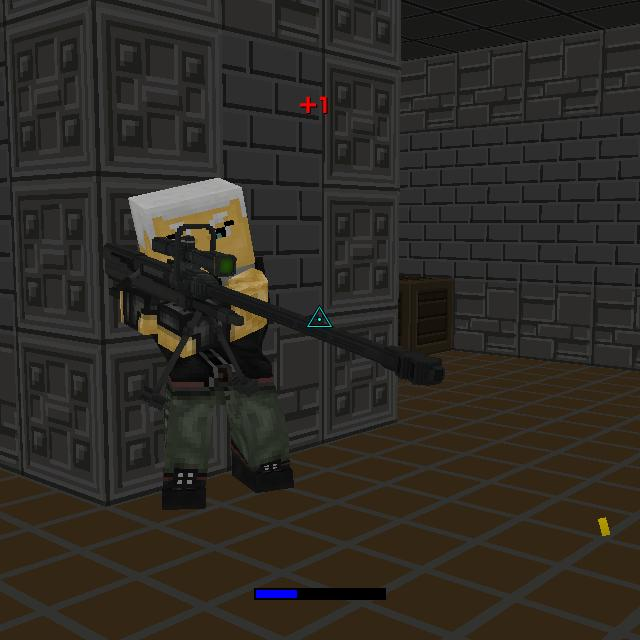enemy: (108, 163, 305, 510)
